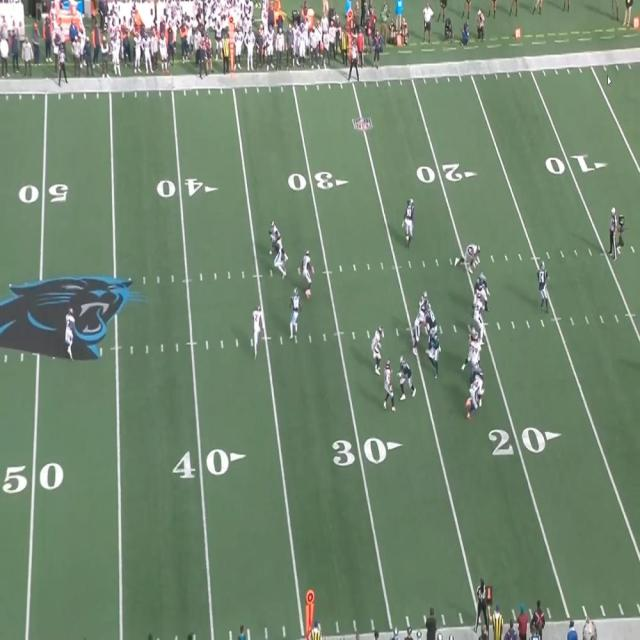db: (63, 309, 76, 358), (252, 306, 264, 356), (384, 362, 394, 408), (267, 219, 277, 238)
lb: (303, 250, 313, 298), (375, 328, 384, 374)
qb: (537, 264, 548, 308)
skill: (426, 332, 442, 374), (290, 290, 301, 340), (404, 199, 414, 245), (275, 234, 284, 272)
